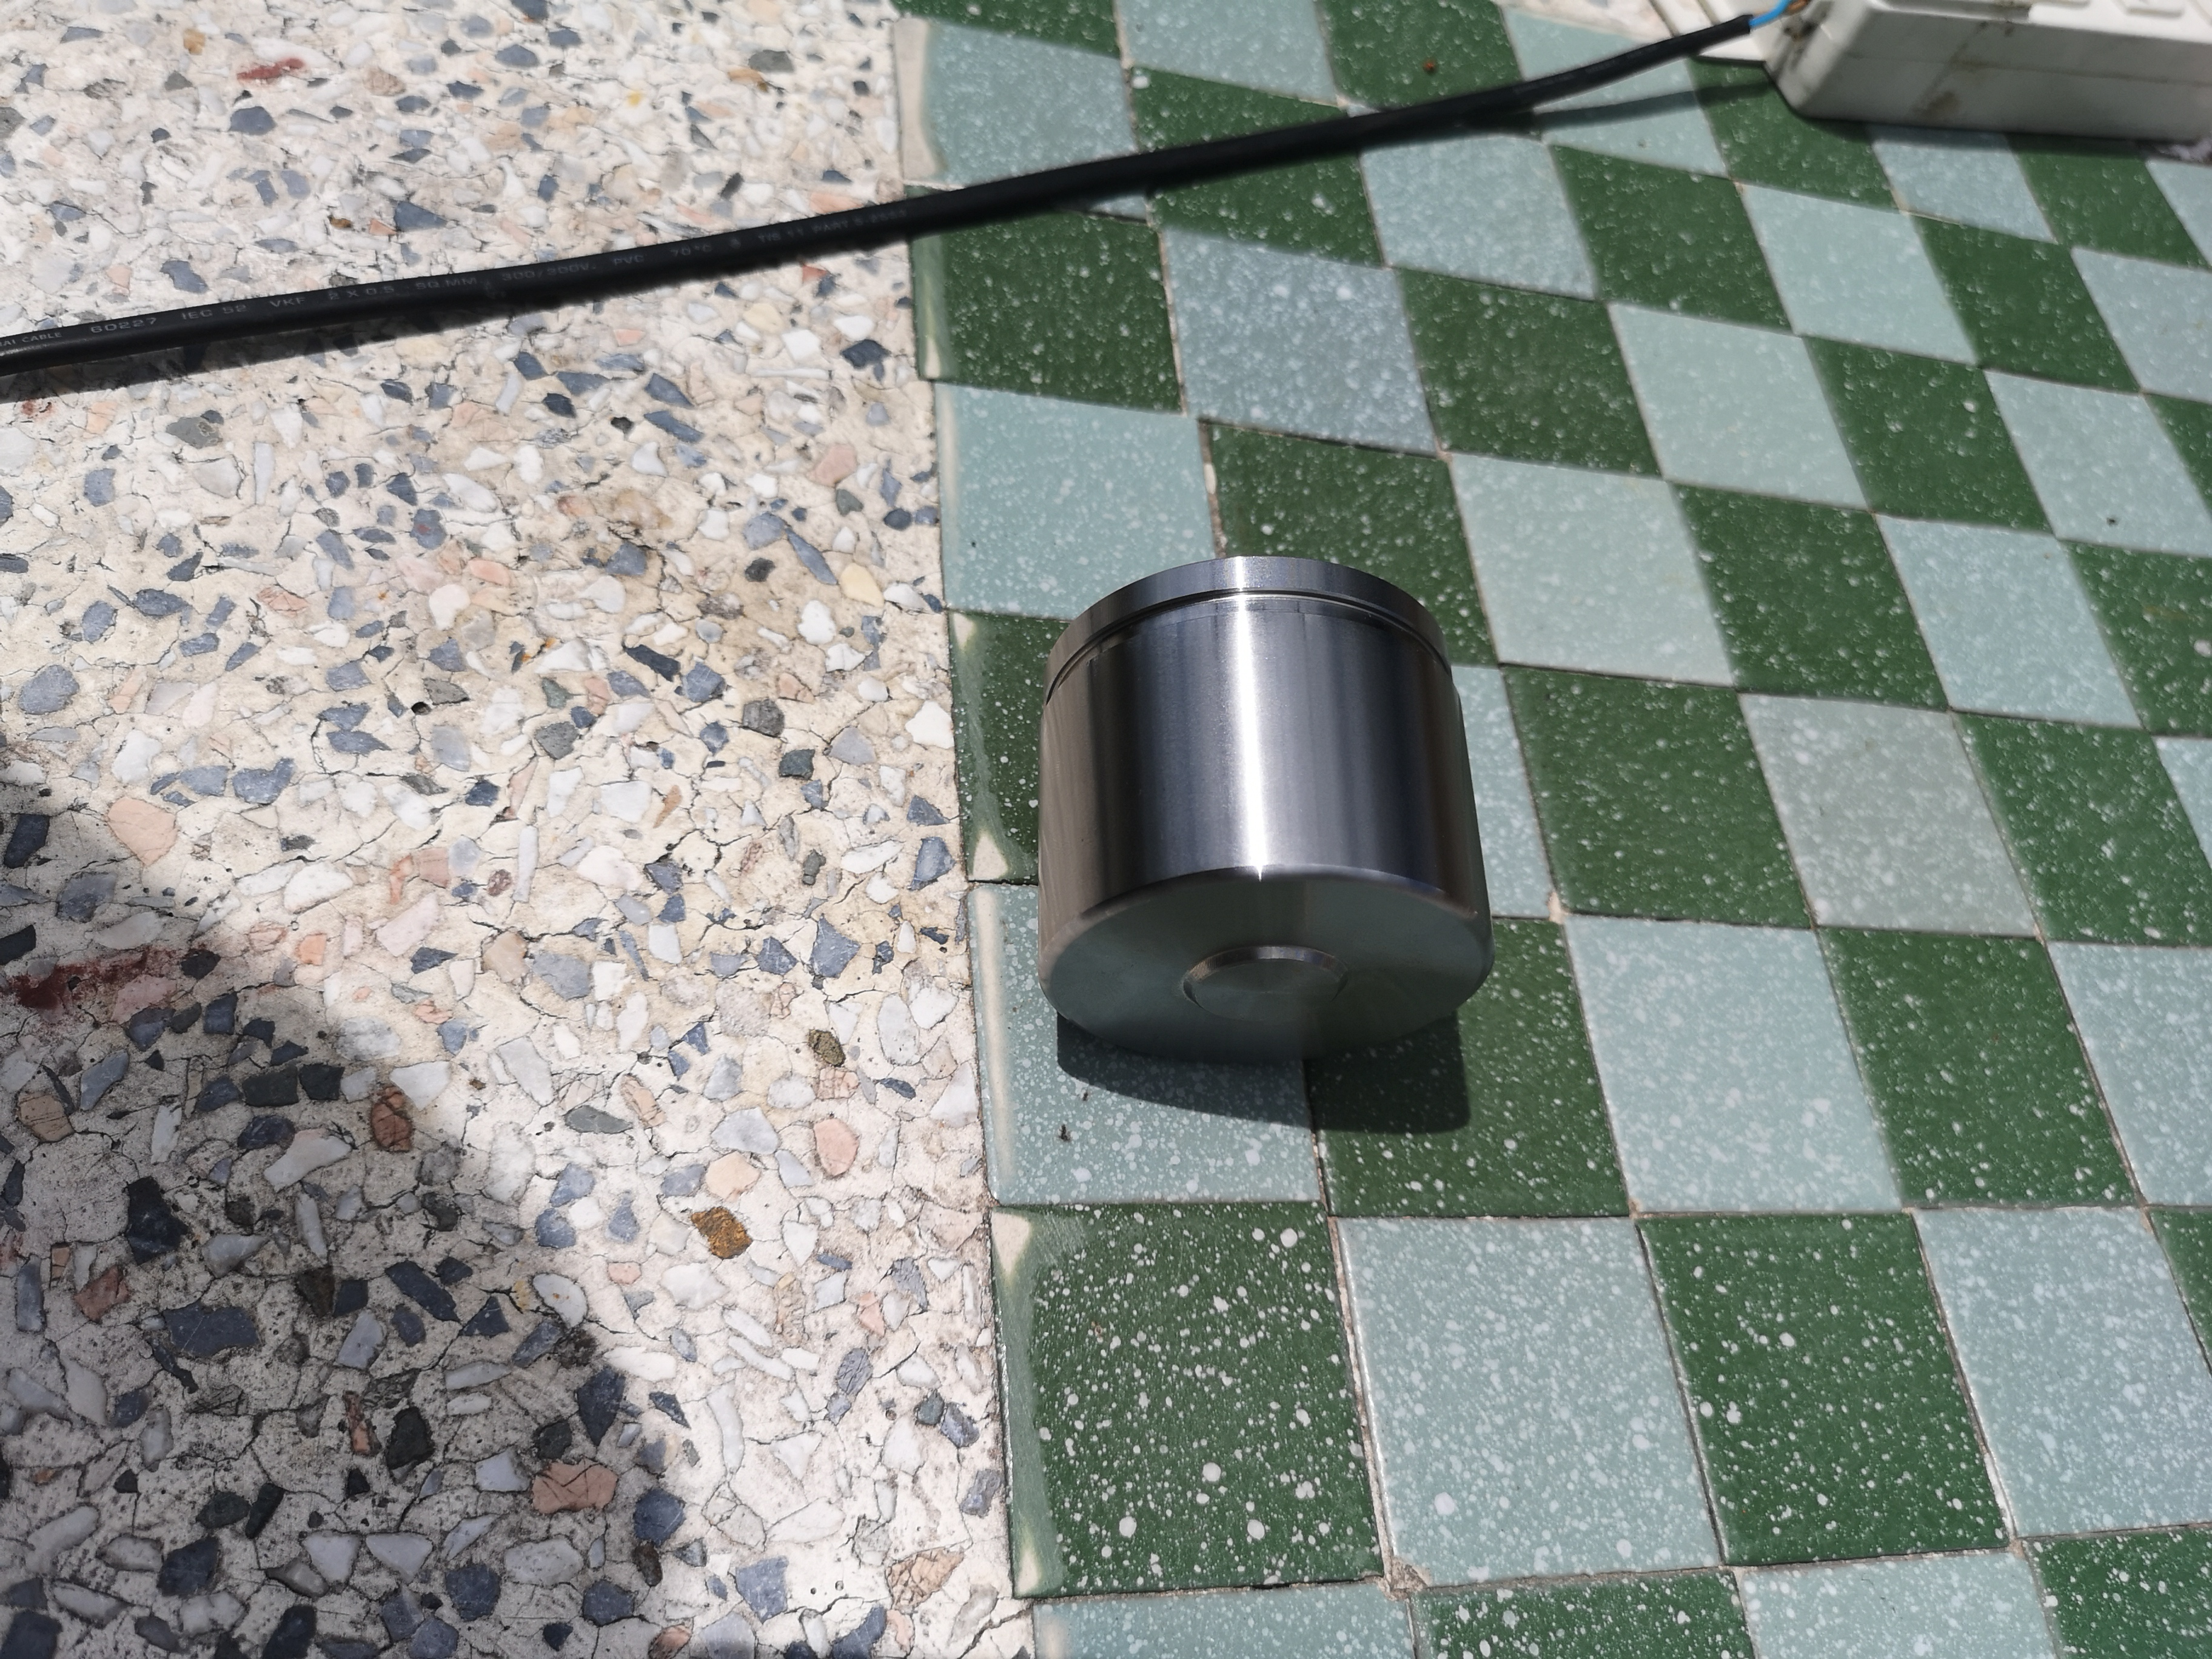ลูกสูบดิสเบรค: (1024, 538, 1566, 1079)
